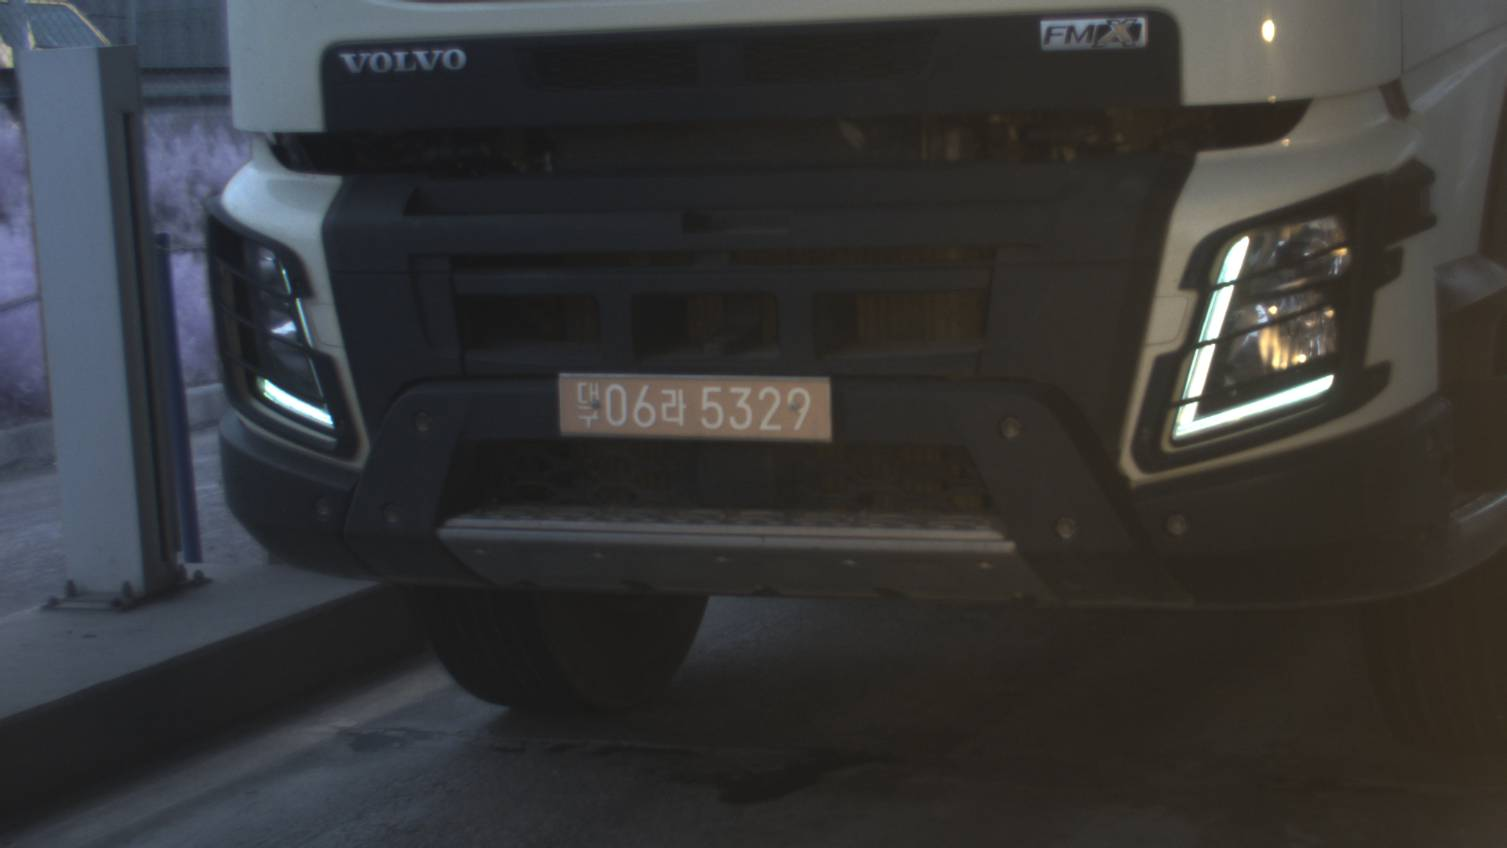car: (207, 3, 1507, 746)
plate: (555, 371, 834, 440)
